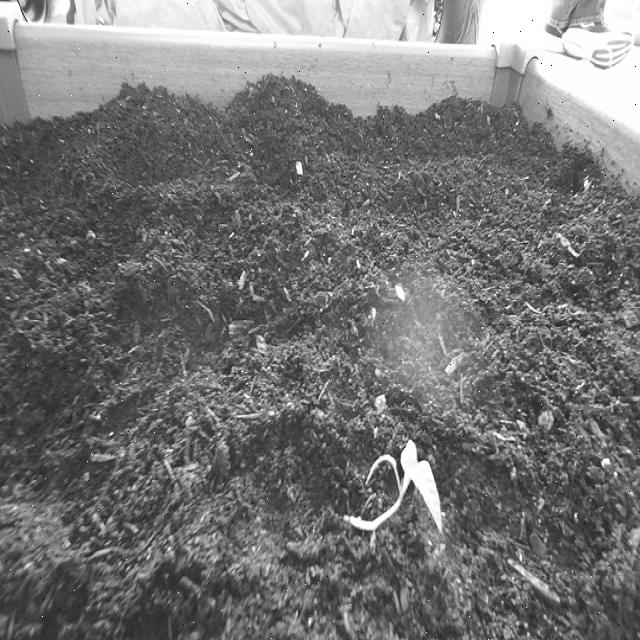Healthy: (338, 434, 447, 545)
